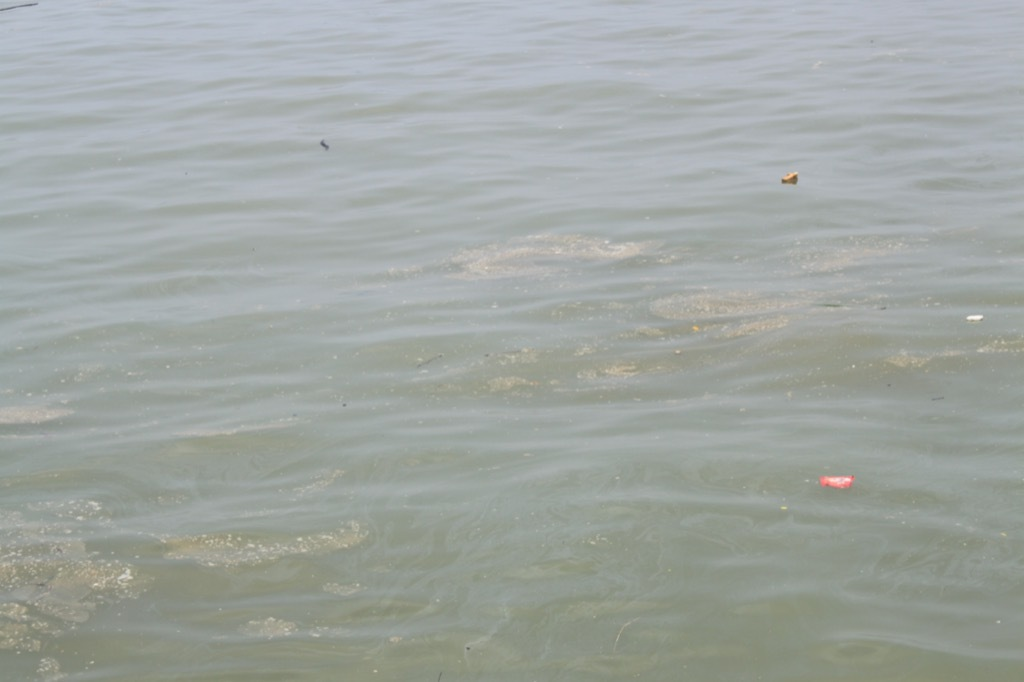organic: (407, 344, 455, 382), (310, 132, 342, 162)
plastic: (809, 463, 863, 505), (770, 159, 814, 197), (952, 304, 997, 336)
